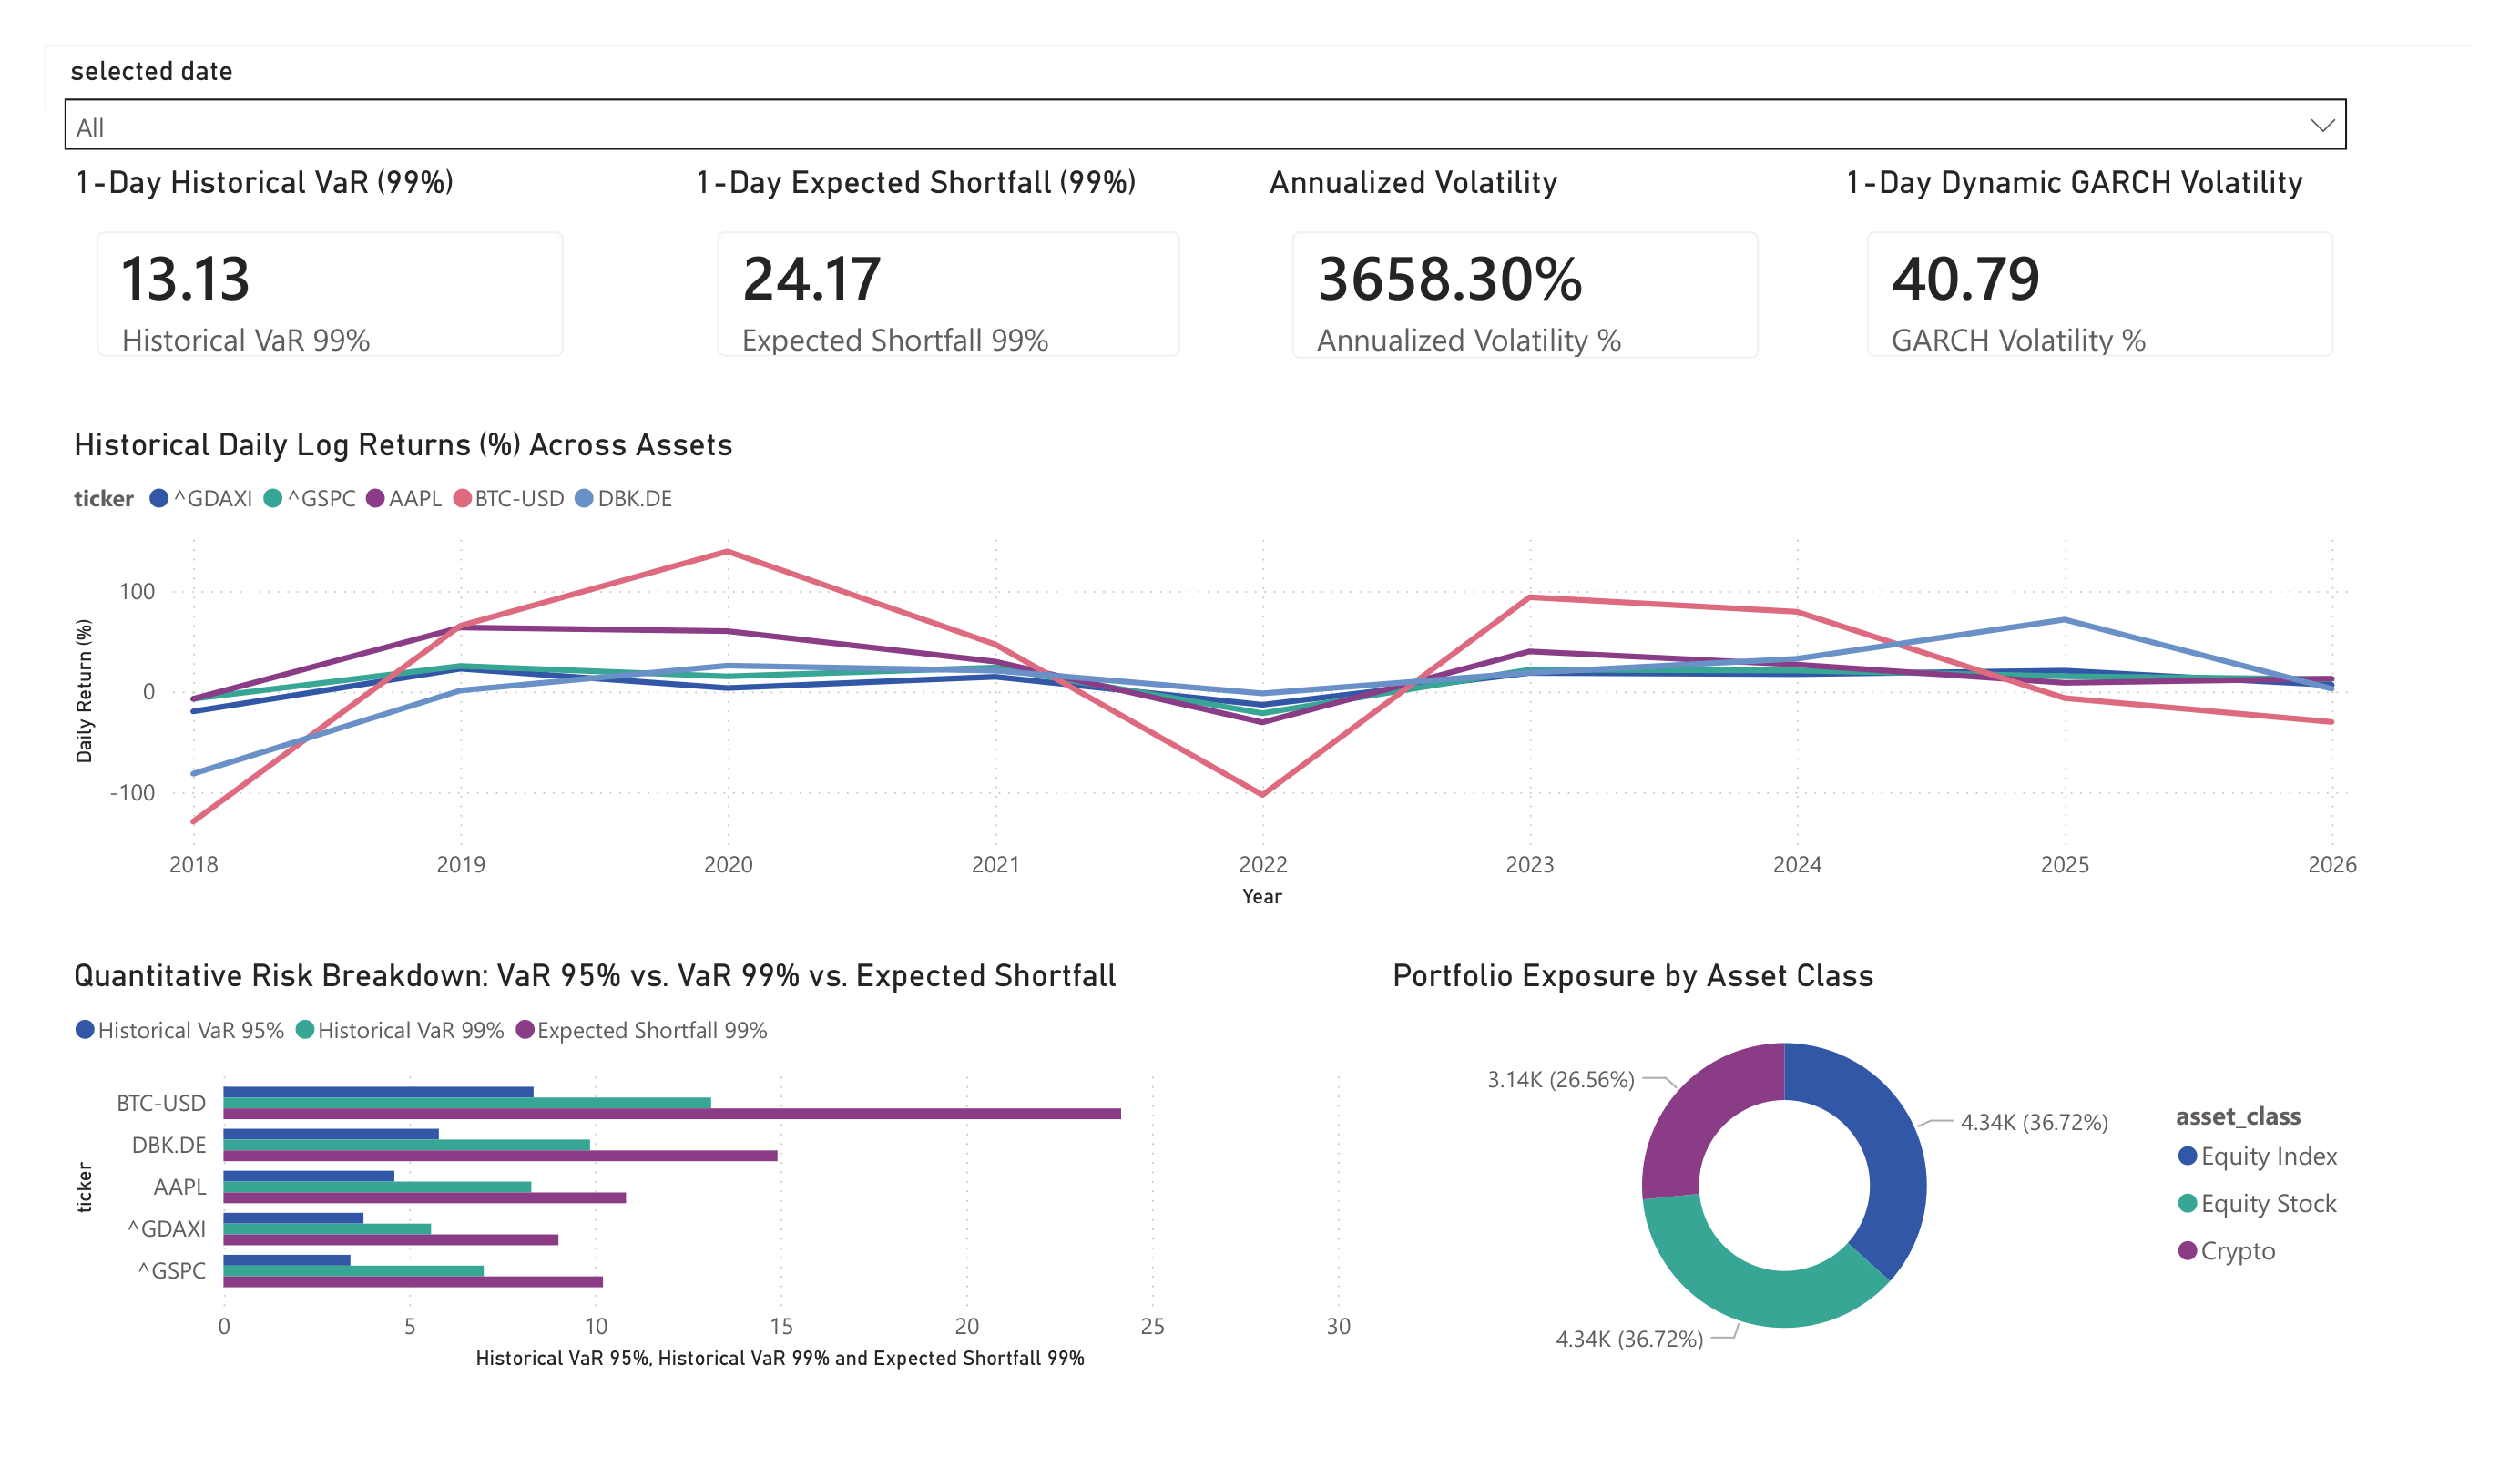

This screenshot's page, from the dashboard's own definition file:
{"tool":"powerbi","page":{"name":"1. Portfolio Risk Overview","canvas":[1280,720],"ordinal":0},"visuals":[{"type":"cardVisual","title":"1-Day Historical VaR (99%)","fields":{"Data":["_Key Risk Measures.Historical VaR 99%"]},"box":[10,61.7,280,120],"z":0},{"type":"cardVisual","title":"1-Day Expected Shortfall (99%)","fields":{"Data":["_Key Risk Measures.Expected Shortfall 99%"]},"box":[336.7,61.7,278.3,120],"z":1000},{"type":"cardVisual","title":"Annualized Volatility","fields":{"Data":["_Key Risk Measures.Annualized Volatility %"]},"box":[640,61.7,280,121.7],"z":2000},{"type":"cardVisual","title":"1-Day Dynamic GARCH Volatility","fields":{"Data":["_Key Risk Measures.GARCH Volatility %"]},"box":[943.3,61.7,280,120],"z":3000},{"type":"lineChart","title":"Historical Daily Log Returns (%) Across Assets","fields":{"Category":["vw_daily_market_overview.price_date.Variation.Date Hierarchy.Year","vw_daily_market_overview.price_date.Variation.Date Hierarchy.Quarter","vw_daily_market_overview.price_date.Variation.Date Hierarchy.Month","vw_daily_market_overview.price_date.Variation.Date Hierarchy.Day"],"Y":["Sum(vw_daily_market_overview.return_pct)"],"Series":["vw_daily_market_overview.ticker"]},"box":[10,200,1213.3,260],"z":4000},{"type":"clusteredBarChart","title":"Quantitative Risk Breakdown: VaR 95% vs. VaR 99% vs. Expected Shortfall","fields":{"Category":["vw_portfolio_risk_summary.ticker"],"Y":["_Key Risk Measures.Historical VaR 95%","_Key Risk Measures.Historical VaR 99%","_Key Risk Measures.Expected Shortfall 99%"]},"box":[10,480,683.3,223.3],"z":5000},{"type":"donutChart","title":"Portfolio Exposure by Asset Class","fields":{"Category":["vw_daily_market_overview.asset_class"],"Y":["CountNonNull(vw_daily_market_overview.ticker)"]},"box":[705,480,518.3,223.3],"z":6000},{"type":"slicer","fields":{"Values":["vw_daily_market_overview.price_date"]},"box":[0,0,1223.3,93.3],"z":7000}]}

Visuals, with their boxes on the page's 1280x720 design canvas (x1, y1, x2, y2). These are canvas units, not pixel positions in the 2520x1457 screenshot, which may show the page scaled, cropped or inside an application window:
"1-Day Historical VaR (99%)" cardVisual: x1=10 y1=62 x2=290 y2=182
"1-Day Expected Shortfall (99%)" cardVisual: x1=337 y1=62 x2=615 y2=182
"Annualized Volatility" cardVisual: x1=640 y1=62 x2=920 y2=183
"1-Day Dynamic GARCH Volatility" cardVisual: x1=943 y1=62 x2=1223 y2=182
"Historical Daily Log Returns (%) Across Assets" lineChart: x1=10 y1=200 x2=1223 y2=460
"Quantitative Risk Breakdown: VaR 95% vs. VaR 99% vs. Expected Shortfall" clusteredBarChart: x1=10 y1=480 x2=693 y2=703
"Portfolio Exposure by Asset Class" donutChart: x1=705 y1=480 x2=1223 y2=703
slicer - vw_daily_market_overview.price_date: x1=0 y1=0 x2=1223 y2=93
